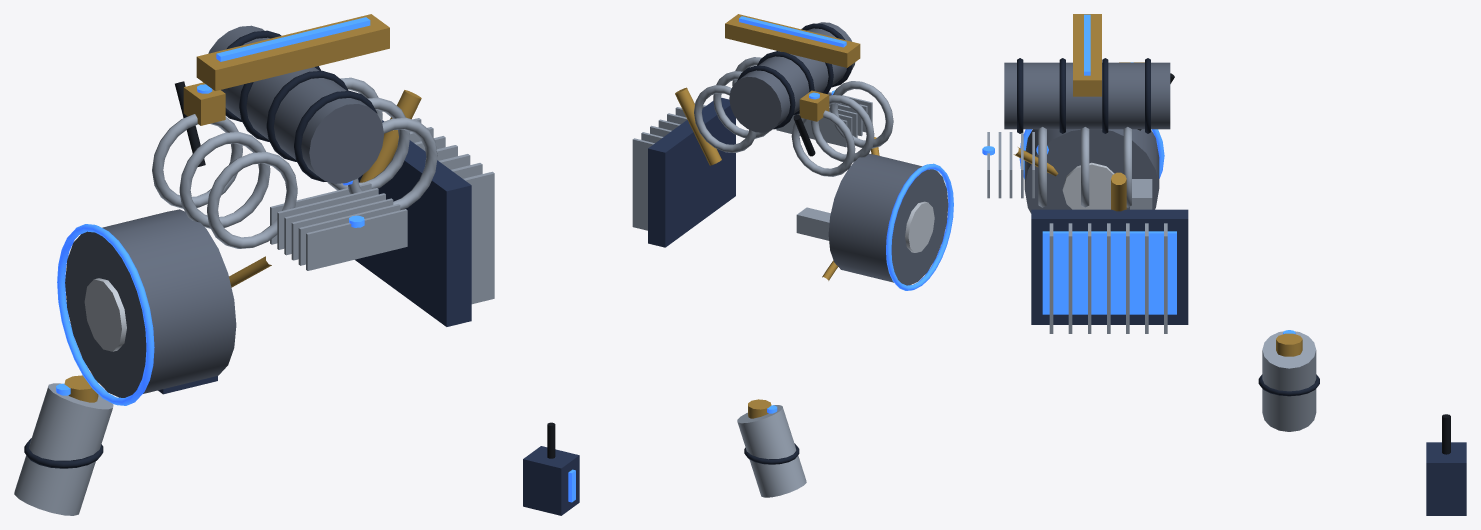
File: tower_lance_rate_s10.glb
3 renders of one model, left to right at view 1: azimuth 30°, elevation 25°; view 2: azimuth 150°, elevation 25°; view 3: azimuth 270°, elevation 25°, orthographic. The views are drawn at different scales.
Visible parts, largest first — view 1: lance_autoloader_drum, lance_radiator_frame, lance_capacitor_c, lance_breech_sink, lance_reservoir, lance_bus_bar_heavy, lance_radiator_fins, lance_autoloader_glow, lance_cap_cover_r0, lance_cap_cover_r1, lance_autoloader_cap, lance_cap_cover_r2 (+9 smaller); view 2: lance_autoloader_drum, lance_radiator_frame, lance_capacitor_c, lance_reservoir, lance_relay_box, lance_bus_bar_heavy, lance_radiator_fins, lance_autoloader_glow, lance_breech_sink, lance_cap_cover_r2, lance_cap_cover_r1, lance_cap_cover_r0 (+8 smaller); view 3: lance_radiator_glow, lance_capacitor_c, lance_radiator_frame, lance_autoloader_drum, lance_reservoir, lance_radiator_fins, lance_relay_box, lance_bus_bar_heavy, lance_autoloader_cap, lance_breech_sink, lance_cap_cover_l1, lance_cap_cover_l0 (+4 smaller).
Part boxes in pixels (<box>): lance_autoloader_drum: <box>65,209,236,397</box>; lance_radiator_frame: <box>355,120,471,326</box>; lance_capacitor_c: <box>208,25,383,183</box>; lance_breech_sink: <box>270,182,407,270</box>; lance_reservoir: <box>14,383,113,515</box>; lance_bus_bar_heavy: <box>196,14,389,90</box>; lance_radiator_fins: <box>409,118,494,304</box>; lance_autoloader_glow: <box>57,224,154,405</box>; lance_cap_cover_r0: <box>207,152,297,248</box>; lance_cap_cover_r1: <box>179,131,270,228</box>; lance_autoloader_cap: <box>84,278,126,351</box>; lance_cap_cover_r2: <box>152,114,242,208</box>; lance_autoloader_drum: <box>828,153,948,285</box>; lance_radiator_frame: <box>648,97,735,247</box>; lance_capacitor_c: <box>729,22,855,132</box>; lance_reservoir: <box>737,405,806,497</box>; lance_relay_box: <box>523,446,579,515</box>; lance_bus_bar_heavy: <box>725,14,860,67</box>; lance_radiator_fins: <box>632,103,705,230</box>; lance_autoloader_glow: <box>886,163,953,290</box>; lance_breech_sink: <box>776,92,872,147</box>; lance_cap_cover_r2: <box>791,110,855,176</box>; lance_cap_cover_r1: <box>811,95,874,162</box>; lance_cap_cover_r0: <box>830,81,893,148</box>; lance_radiator_glow: <box>1042,231,1176,314</box>; lance_capacitor_c: <box>1004,62,1170,129</box>; lance_radiator_frame: <box>1031,209,1188,324</box>; lance_autoloader_drum: <box>1024,129,1159,213</box>; lance_reservoir: <box>1262,331,1316,431</box>; lance_radiator_fins: <box>1049,223,1167,333</box>; lance_relay_box: <box>1426,442,1466,515</box>; lance_bus_bar_heavy: <box>1073,14,1101,96</box>; lance_autoloader_cap: <box>1062,162,1114,209</box>; lance_breech_sink: <box>987,132,1034,198</box>; lance_cap_cover_l1: <box>1081,127,1089,207</box>; lance_cap_cover_l0: <box>1038,127,1046,207</box>.
Bounding box in the file's own units: 1.46 × 2.08 × 2.16.
